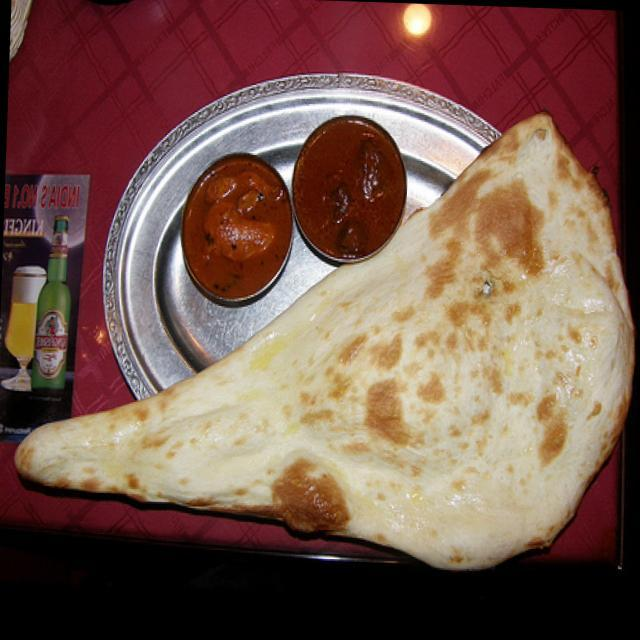Beef Curry: (305, 132, 389, 230)
